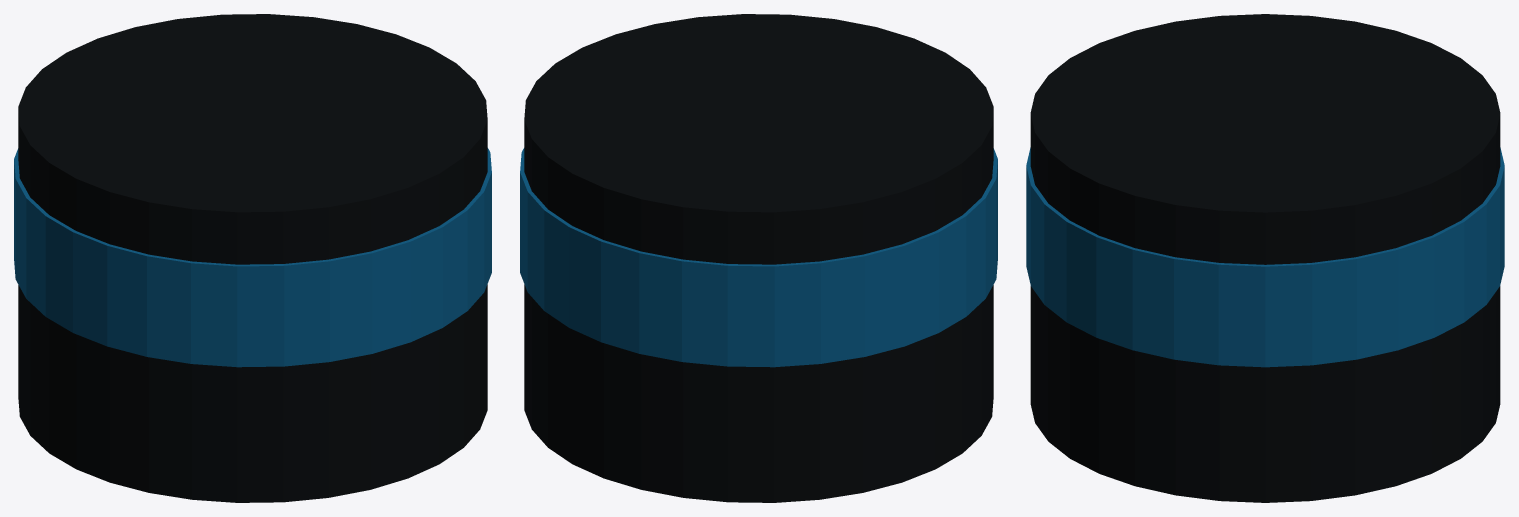
The model's file is sensor_lidar_top.dae.
3 renders of one model, left to right at view 1: azimuth 30°, elevation 25°; view 2: azimuth 150°, elevation 25°; view 3: azimuth 270°, elevation 25°, orthographic.
Visible parts, largest first — view 1: node; view 2: node; view 3: node.
Part boxes in pixels (left/top/right/bottom): node: left=14, top=14, right=491, bottom=502; node: left=520, top=14, right=997, bottom=502; node: left=1026, top=14, right=1504, bottom=502.
Bounding box in the file's own units: 0.112 × 0.112 × 0.075.
